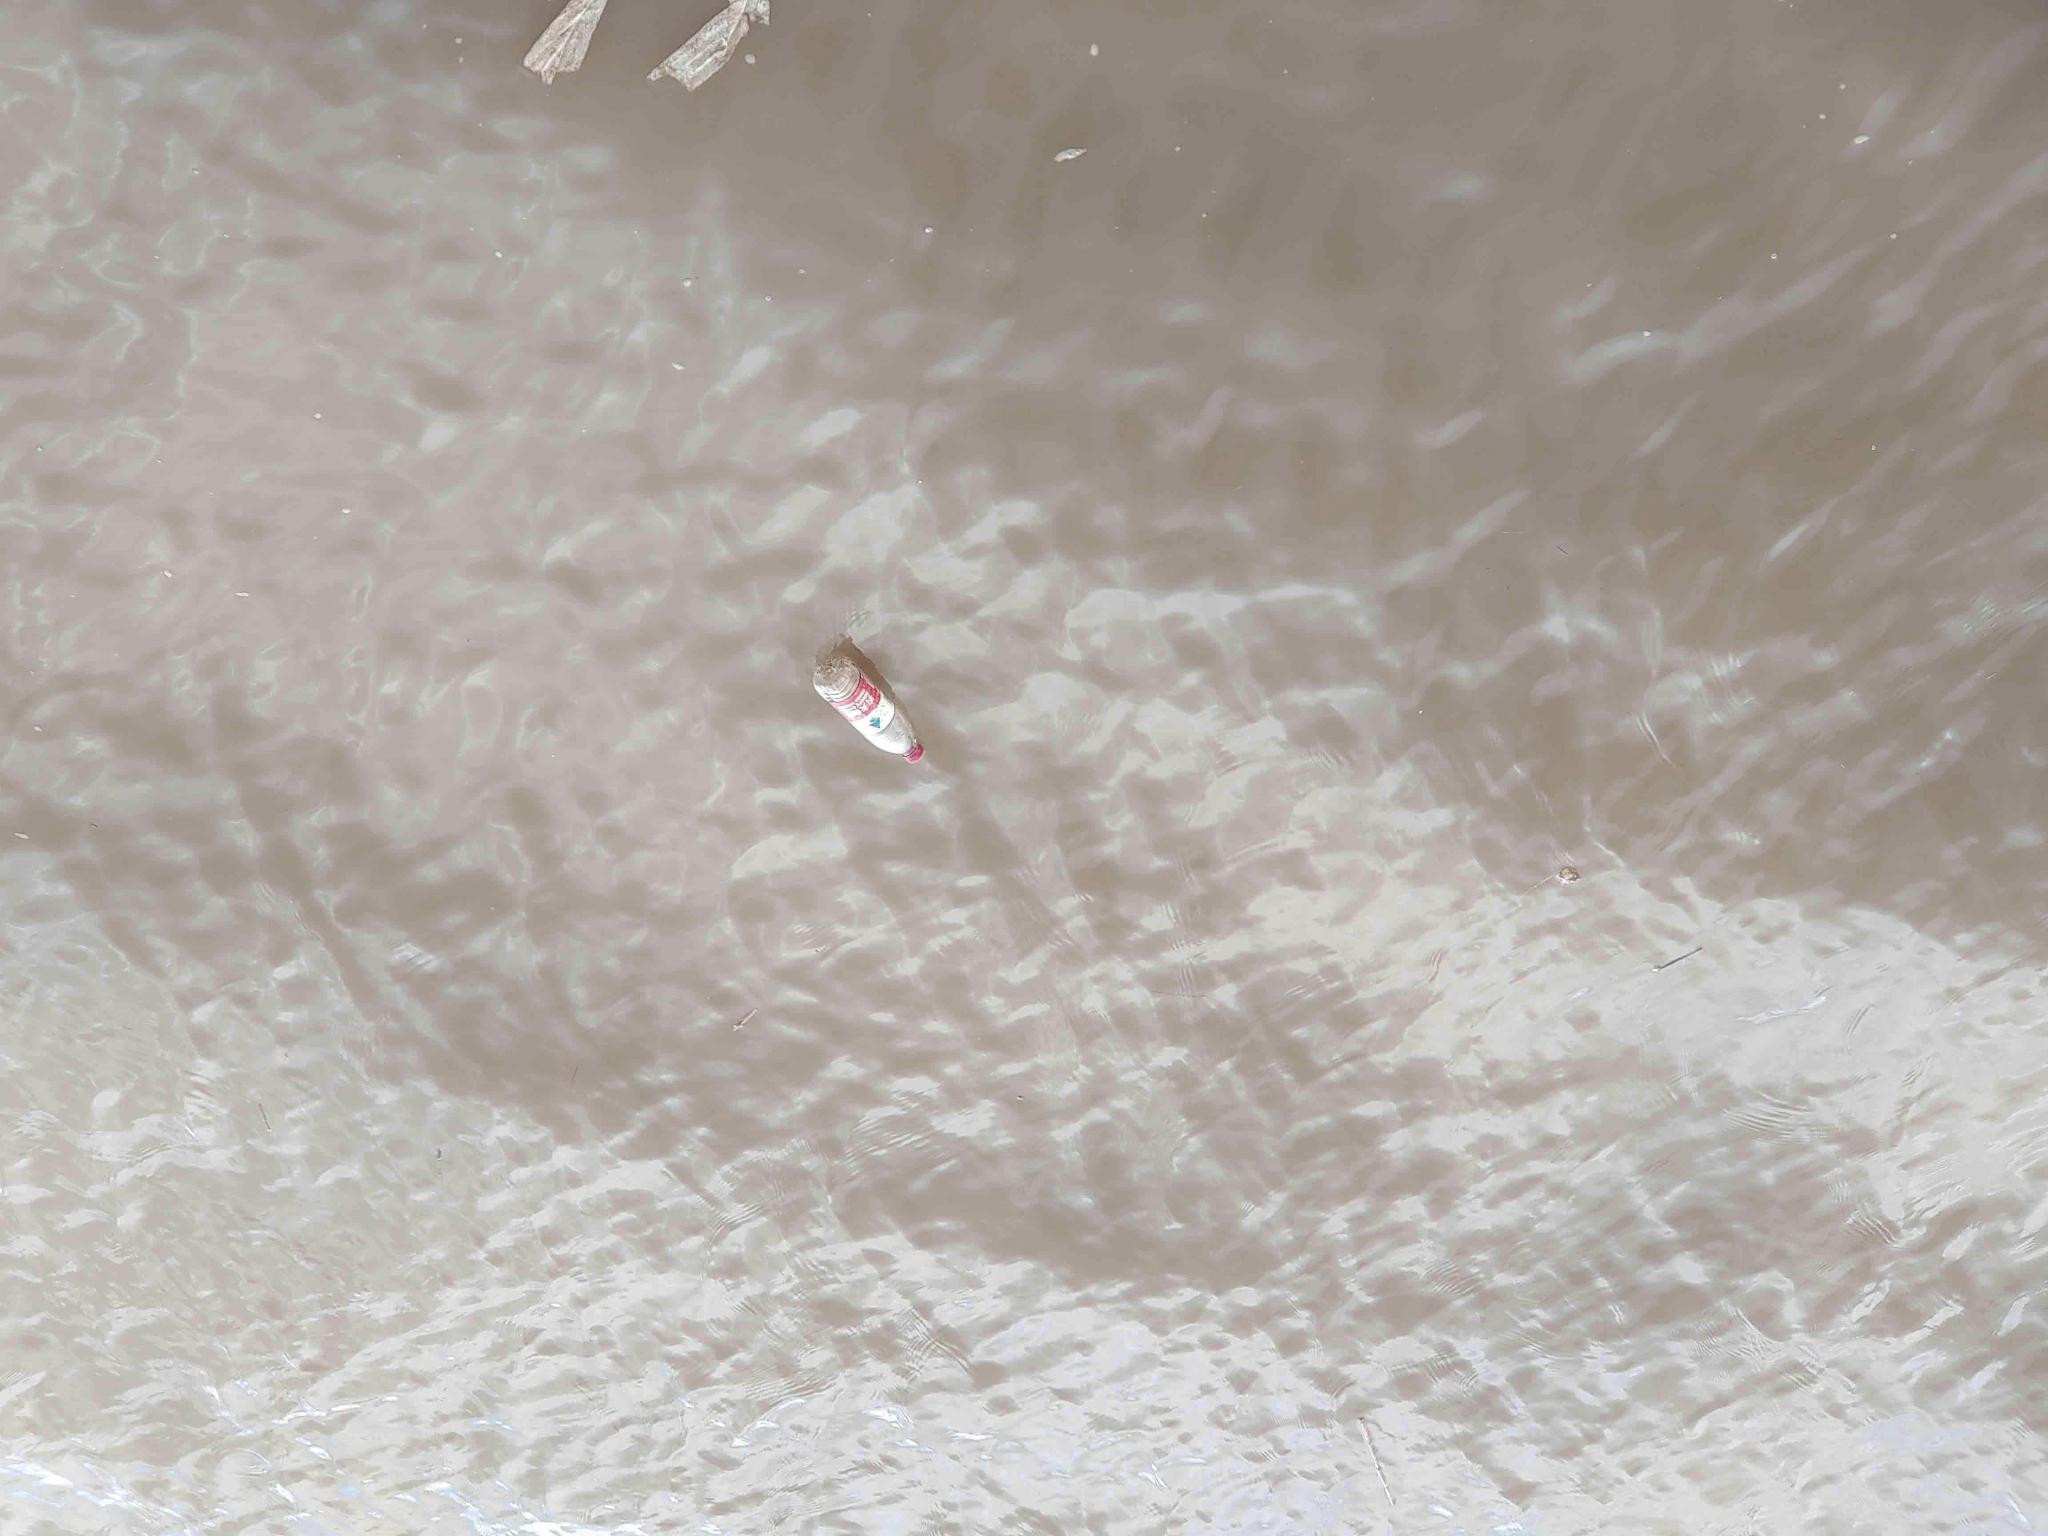Plastic: (813, 645, 929, 762)
